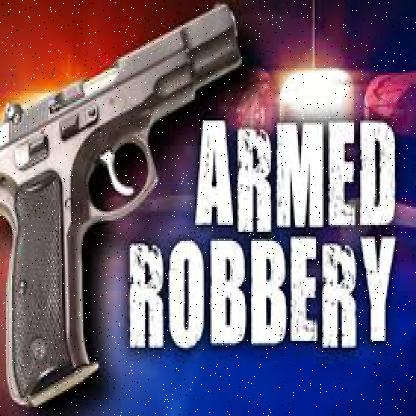pistol: (2, 2, 239, 400)
